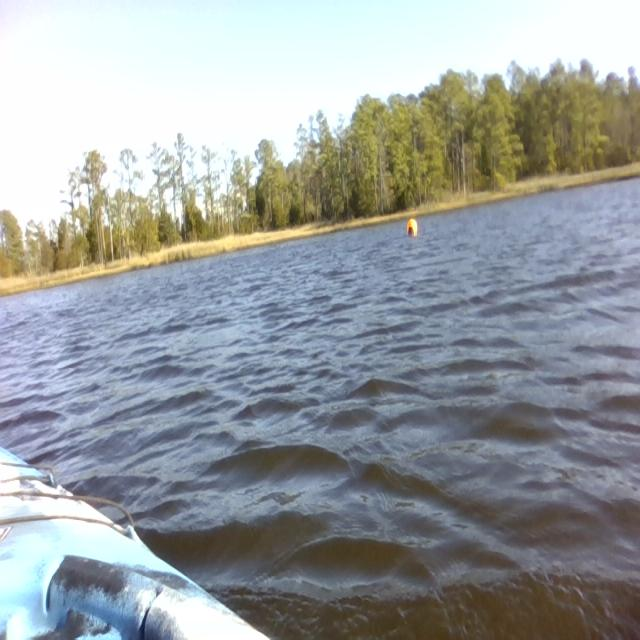Buoy: (399, 211, 423, 245)
